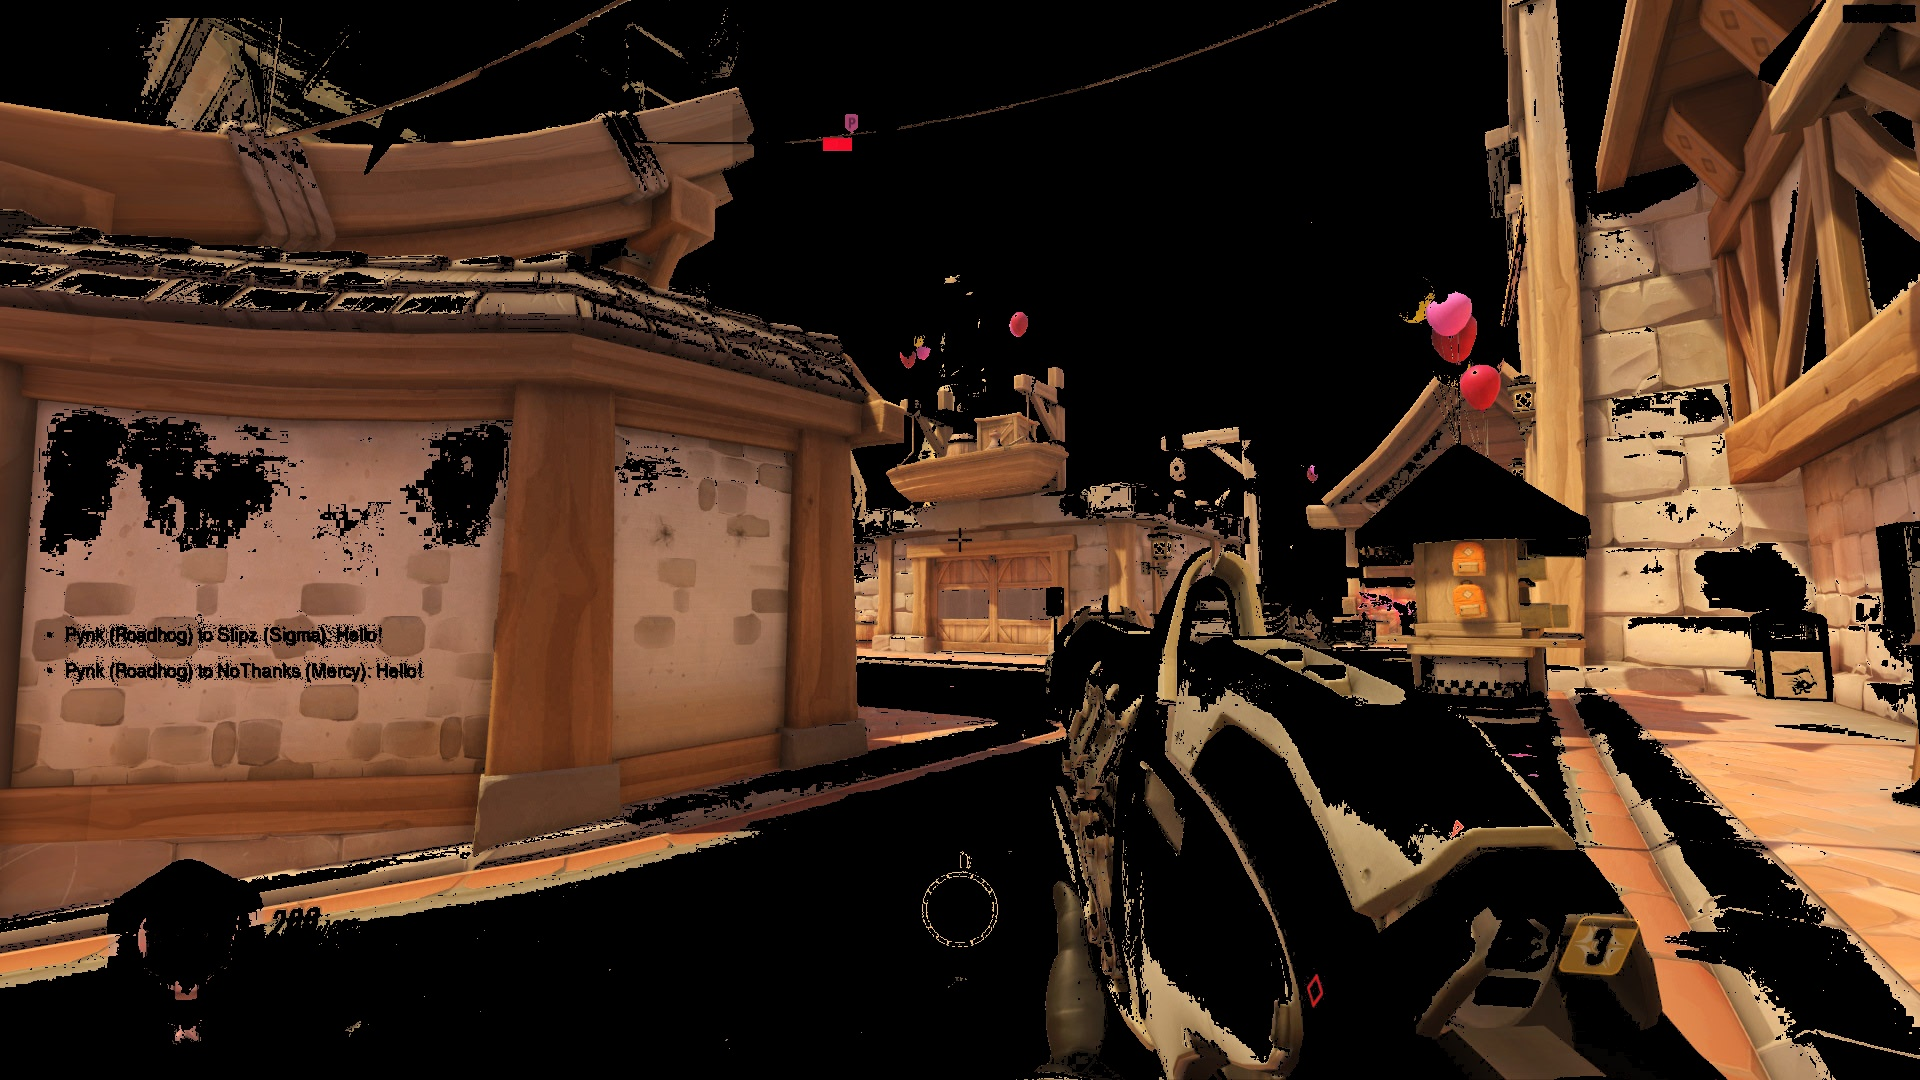widowmaker: (1354, 593, 1381, 622)
